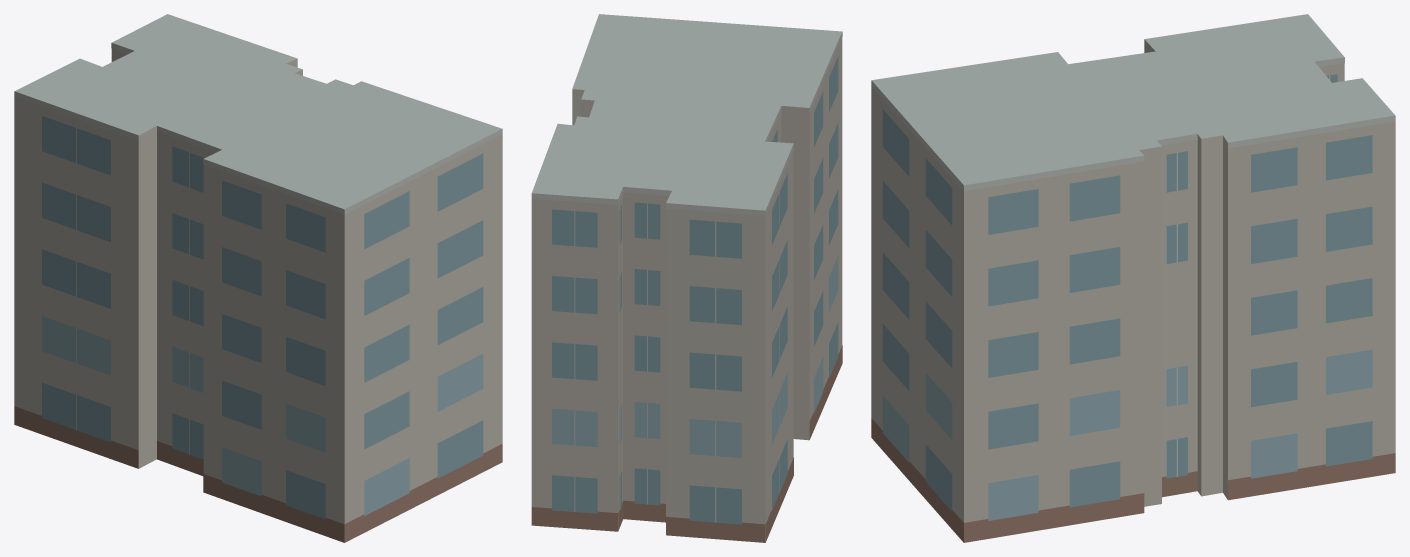
Rendered from survey-upis-32862782.glb.
The picture shows the model from 3 angles, left to right: view 1: azimuth 30°, elevation 25°; view 2: azimuth 150°, elevation 25°; view 3: azimuth 270°, elevation 25°; orthographic projection. The views are drawn at different scales.
Visible parts, largest first — view 1: survey-upis-32862782.tmp; view 2: survey-upis-32862782.tmp; view 3: survey-upis-32862782.tmp.
Boxes of the visible parts, x1=… form: survey-upis-32862782.tmp: x1=14, y1=14, x2=502, y2=542; survey-upis-32862782.tmp: x1=531, y1=14, x2=842, y2=542; survey-upis-32862782.tmp: x1=871, y1=14, x2=1395, y2=542.
Bounding box in the file's own units: 15.28 × 14.85 × 19.74.
